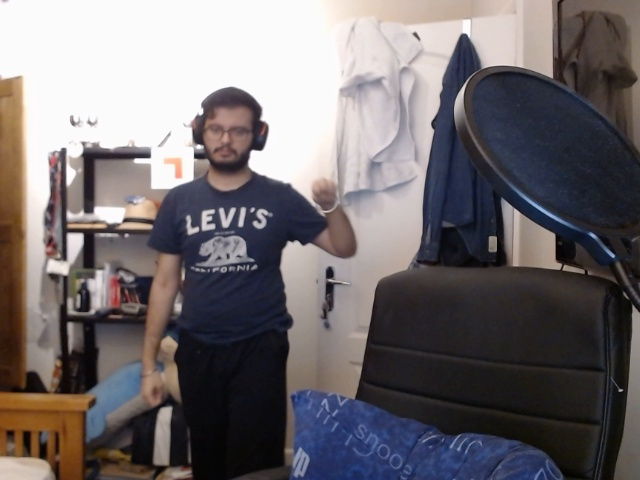Yes: (308, 173, 340, 214)
